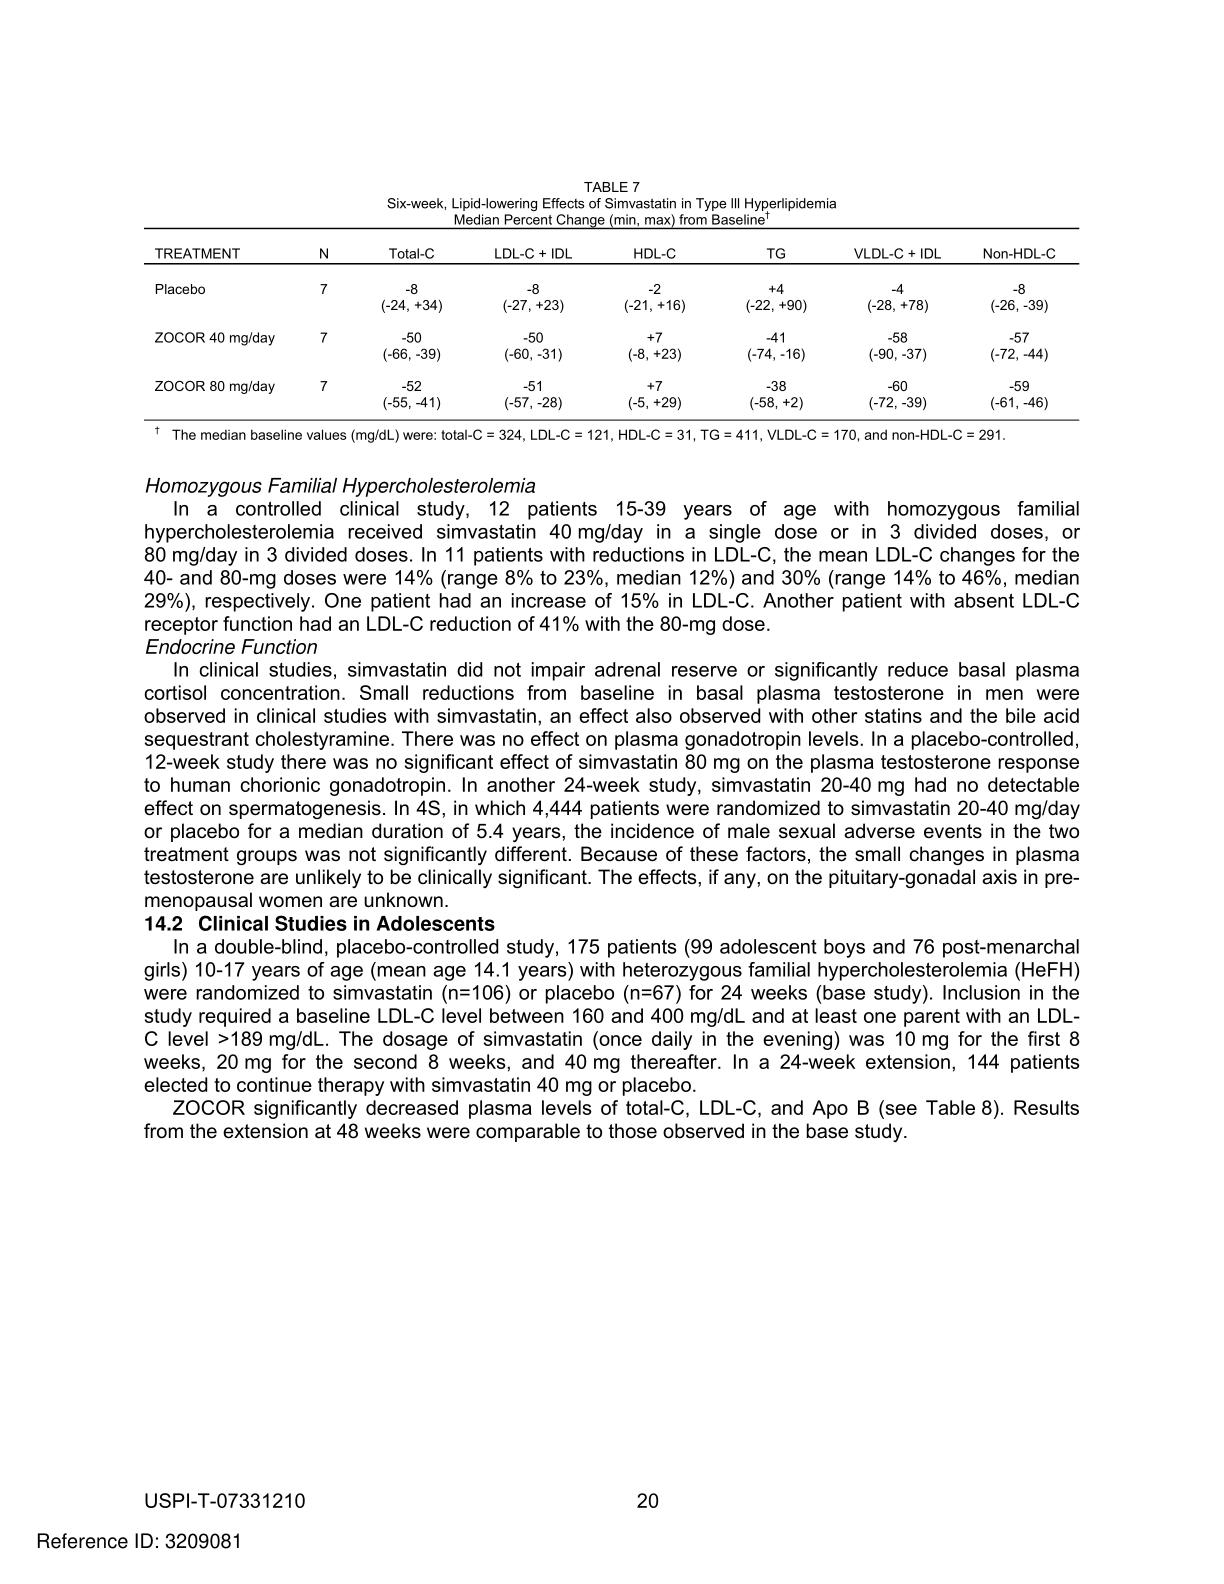partial_lined: (140, 225, 1085, 424)
